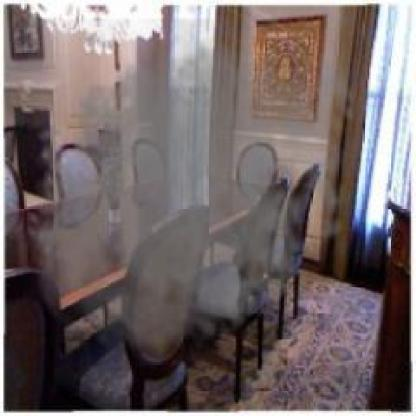Smoke: (20, 18, 367, 379)
